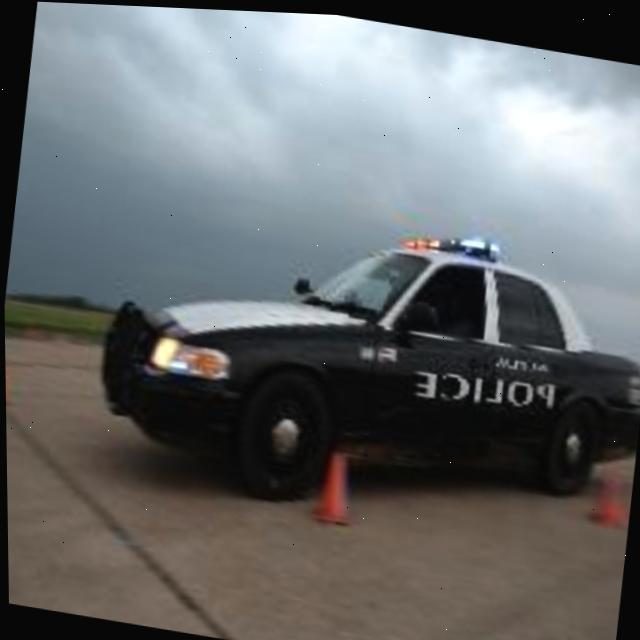emergency: (112, 176, 640, 552)
